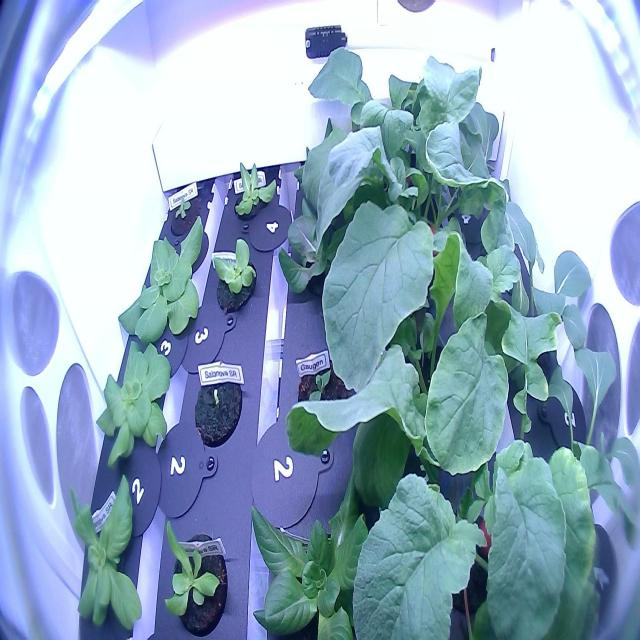germination: (289, 351, 361, 444), (190, 360, 249, 452)
young: (240, 442, 409, 640), (64, 466, 150, 634), (275, 179, 380, 310), (113, 208, 206, 352), (89, 329, 174, 477), (157, 513, 236, 638), (205, 233, 261, 318), (223, 154, 283, 233), (167, 192, 199, 243)
